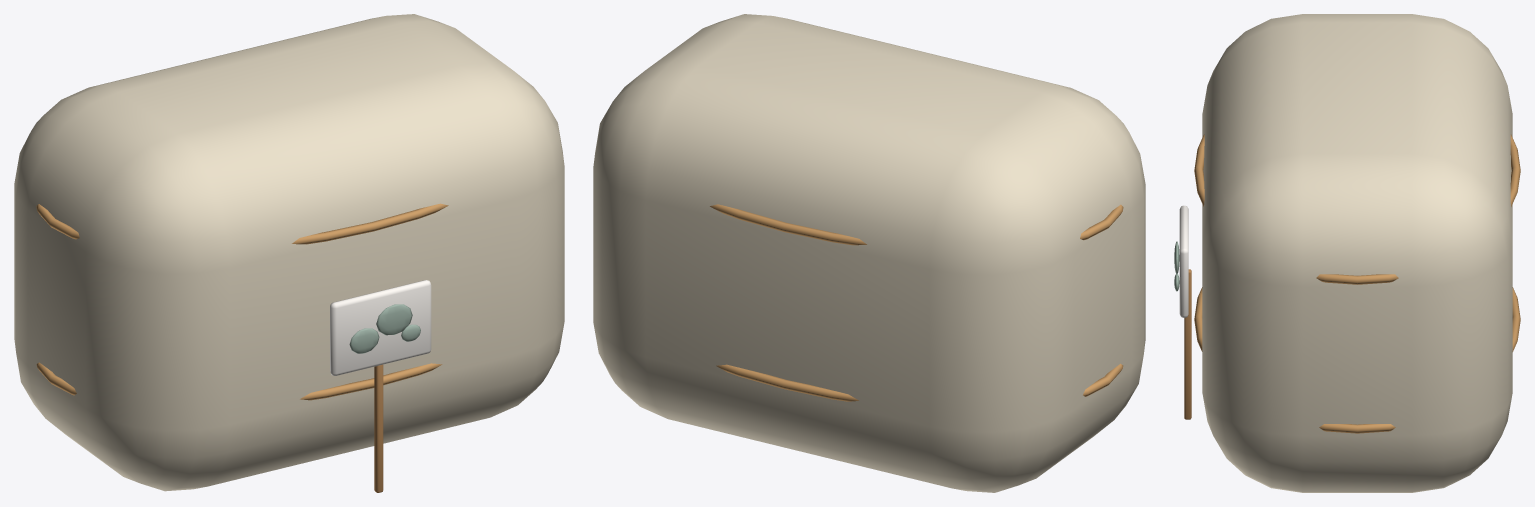
File: festival-cover.glb
3 renders of one model, left to right at view 1: azimuth 30°, elevation 25°; view 2: azimuth 150°, elevation 25°; view 3: azimuth 270°, elevation 25°, orthographic. The views are drawn at different scales.
Parts seen in each view (by area): view 1: cover; view 2: cover; view 3: cover.
Part boxes in pixels (x1,y1,x2,y2): cover: (14, 14, 564, 492); cover: (593, 14, 1145, 492); cover: (1174, 14, 1520, 492).
Bounding box in the file's own units: 2.89 × 2 × 1.9.
